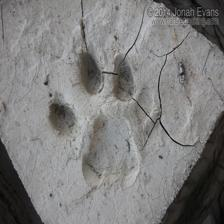puma: (46, 44, 156, 191)
